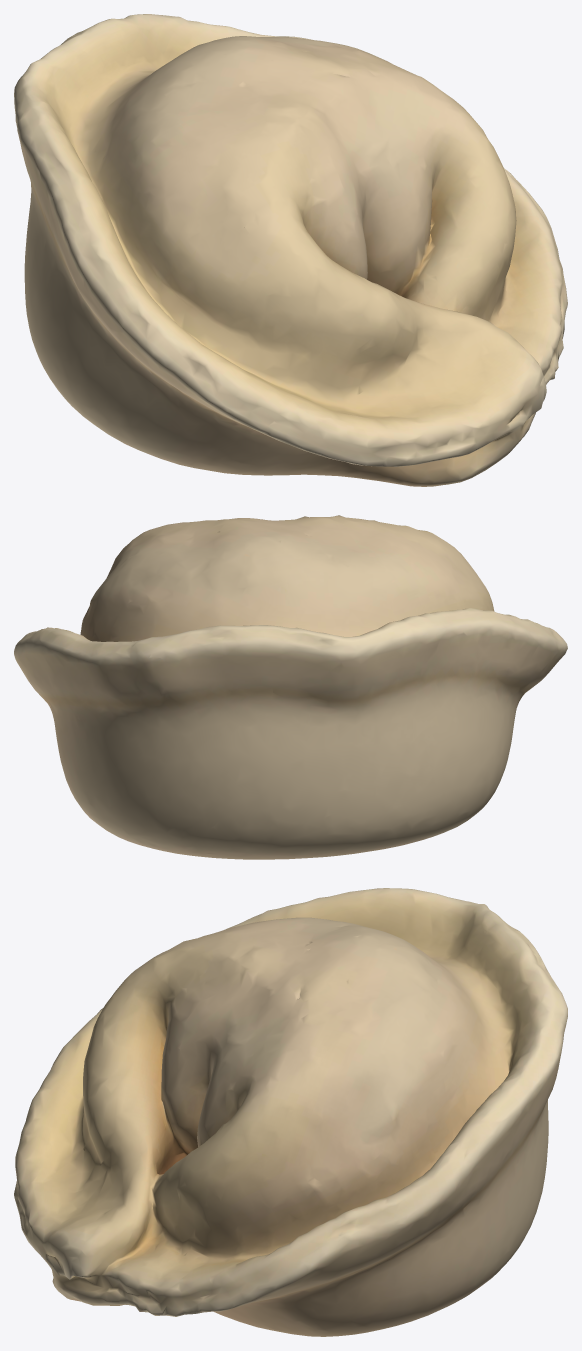
Rendered from pelmeni.glb.
The picture shows the model from 3 angles, top to bottom: view 1: azimuth 30°, elevation 25°; view 2: azimuth 150°, elevation 25°; view 3: azimuth 270°, elevation 25°; orthographic projection. The views are drawn at different scales.
Parts seen in each view (by area): view 1: tripo_node_6380cdeb-c91e-4127-bc18-5a97ed79a202; view 2: tripo_node_6380cdeb-c91e-4127-bc18-5a97ed79a202; view 3: tripo_node_6380cdeb-c91e-4127-bc18-5a97ed79a202.
Boxes of the visible parts, x1,y1,x2,y2 form: tripo_node_6380cdeb-c91e-4127-bc18-5a97ed79a202: [14, 14, 567, 486]; tripo_node_6380cdeb-c91e-4127-bc18-5a97ed79a202: [14, 515, 567, 859]; tripo_node_6380cdeb-c91e-4127-bc18-5a97ed79a202: [14, 888, 567, 1336].
Size of the model in its own units: 0.9994 by 0.662 by 1.
Materials: 1 (1 with a texture image).
